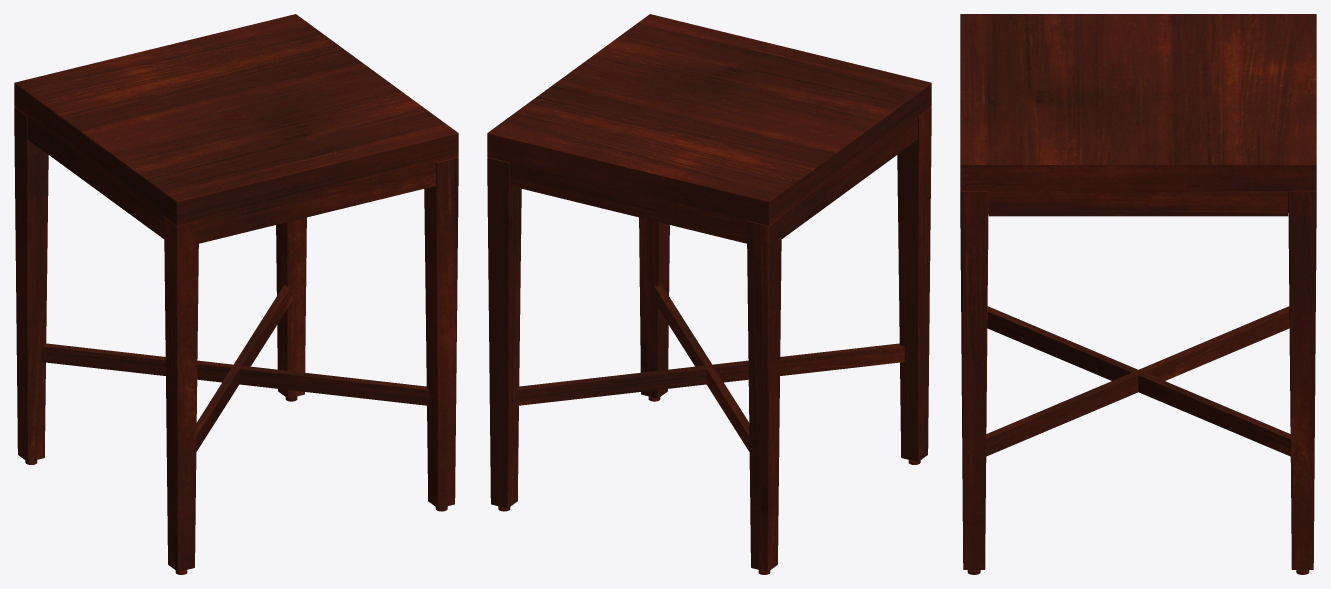
File: sweethome3d-scopia-bar-table-71.glb
3 views of the same model, side by side, from view 1: azimuth 30°, elevation 25°; view 2: azimuth 150°, elevation 25°; view 3: azimuth 270°, elevation 25° (orthographic). The views are drawn at different scales.
Visible parts, largest first — view 1: table_Cube; view 2: table_Cube; view 3: table_Cube.
Boxes of the visible parts, <box> form: table_Cube: <box>14,14,458,574</box>; table_Cube: <box>487,14,931,574</box>; table_Cube: <box>960,14,1316,574</box>.
Bounding box in the file's own units: 80 × 102 × 80.
2 materials, 2 textured.
